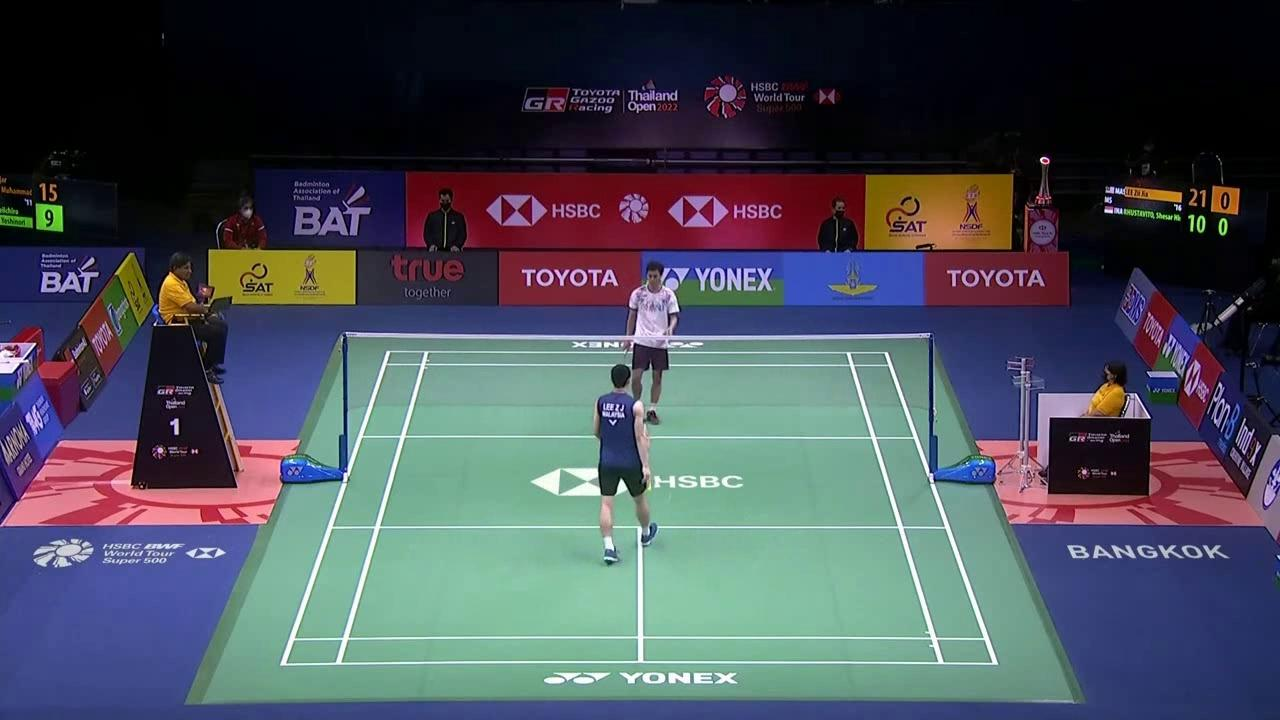racket: (609, 343, 632, 400)
shuttle: (654, 477, 661, 482)
